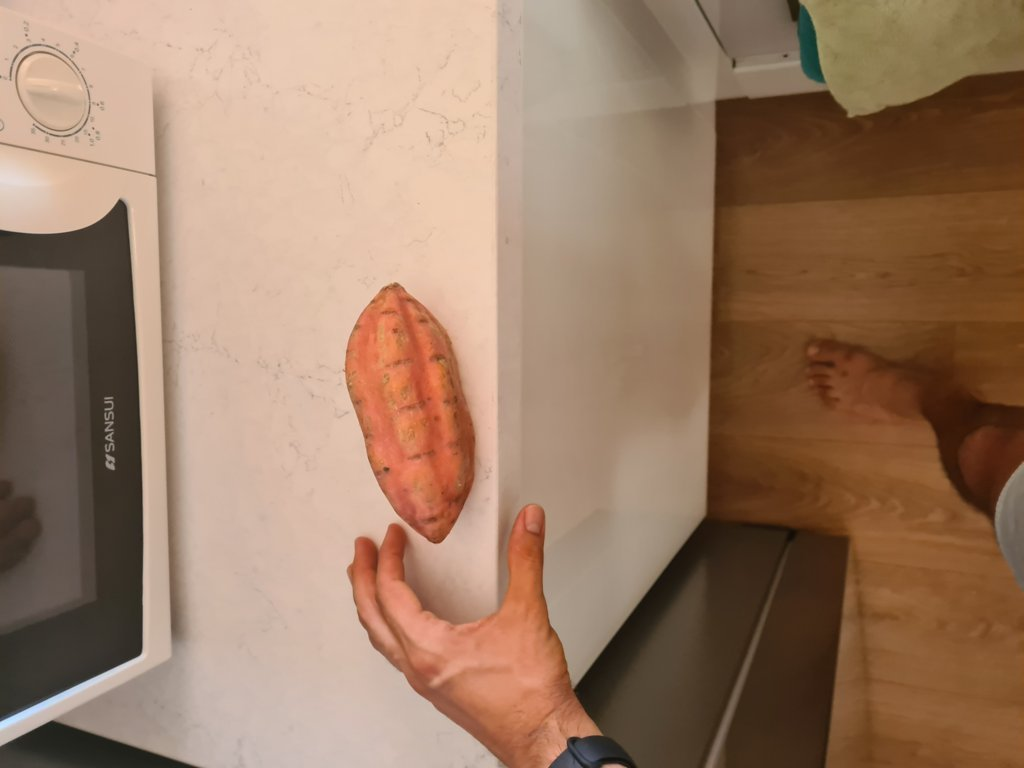Sweet Potatow: (339, 273, 479, 538)
